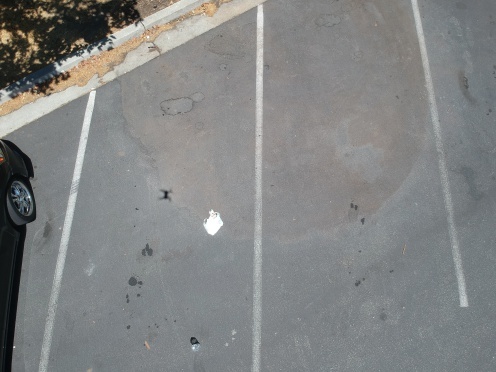bottle: (188, 339, 205, 355)
plastic bag: (201, 207, 223, 235)
